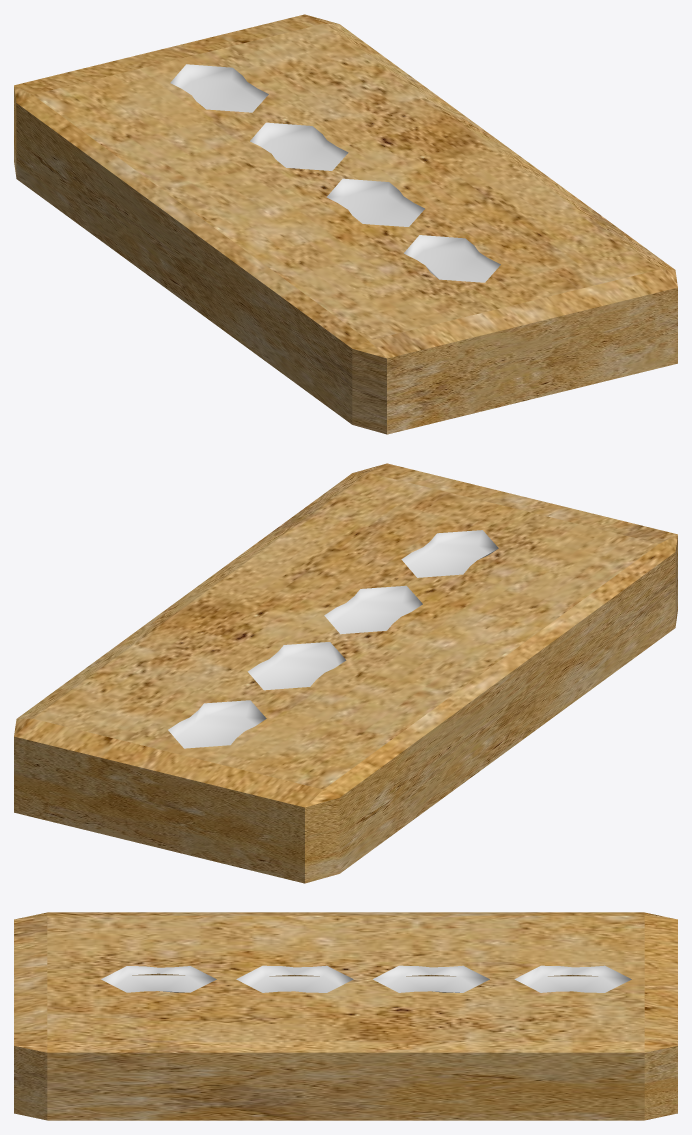
File: stone_puzzle_support.fbx
3 views of the same model, one above another, from view 1: azimuth 30°, elevation 25°; view 2: azimuth 150°, elevation 25°; view 3: azimuth 270°, elevation 25° (orthographic). The views are drawn at different scales.
Parts seen in each view (by area): view 1: Stone_Support; view 2: Stone_Support; view 3: Stone_Support.
Boxes of the visible parts, box(x1,y1,x2,y2) form: Stone_Support: box(14, 14, 677, 434); Stone_Support: box(14, 463, 677, 883); Stone_Support: box(14, 912, 677, 1120).
Size of the model in its own units: 200 by 50 by 400.
Materials: 2 (1 with a texture image).
